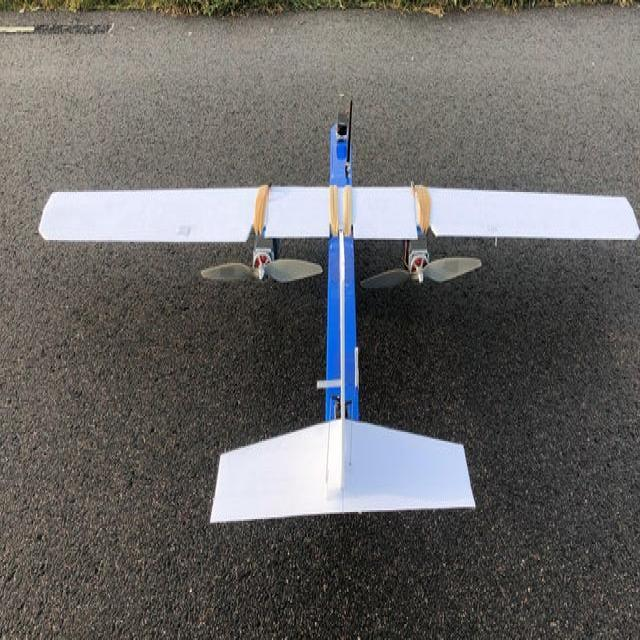iha: (36, 97, 640, 570)
